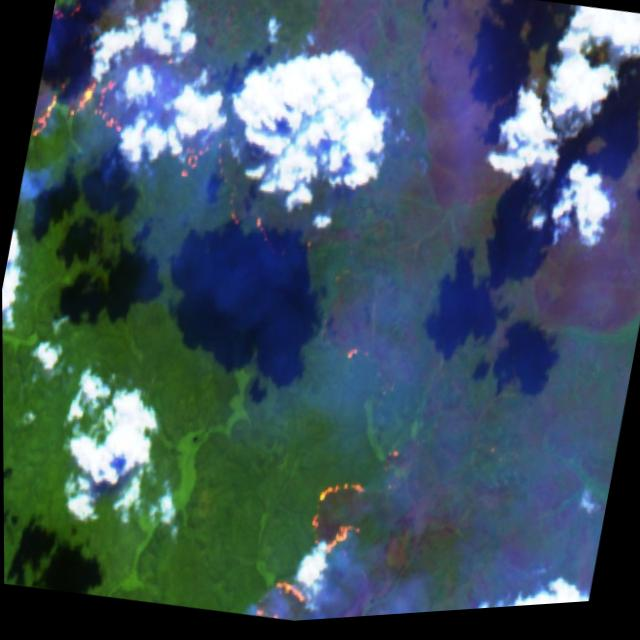fire: (15, 0, 326, 260), (243, 455, 374, 627)
